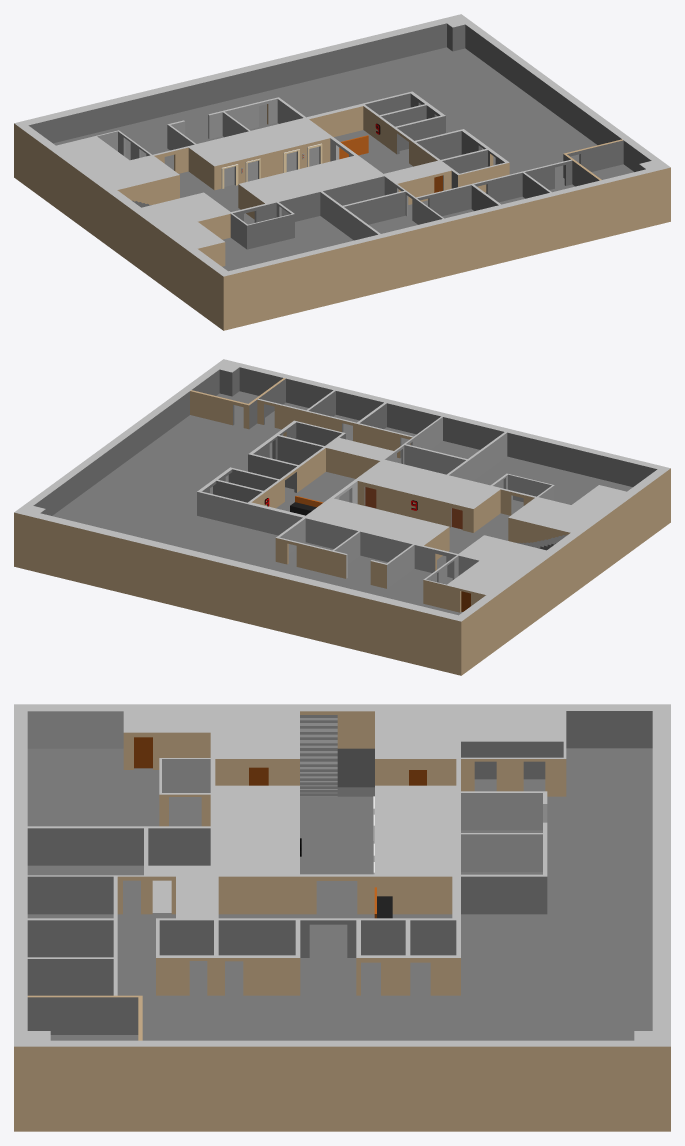
The model's file is 9F-coloredNhan.gltf.
3 renders of one model, top to bottom at view 1: azimuth 30°, elevation 25°; view 2: azimuth 150°, elevation 25°; view 3: azimuth 270°, elevation 25°, orthographic. The views are drawn at different scales.
Visible parts, largest first — view 1: root; view 2: root; view 3: root.
Boxes of the visible parts, x1,y1,x2,y2 form: root: [14, 14, 670, 330]; root: [14, 359, 670, 675]; root: [14, 704, 670, 1131].
Size of the model in its own units: 45.38 by 5.25 by 36.81.
